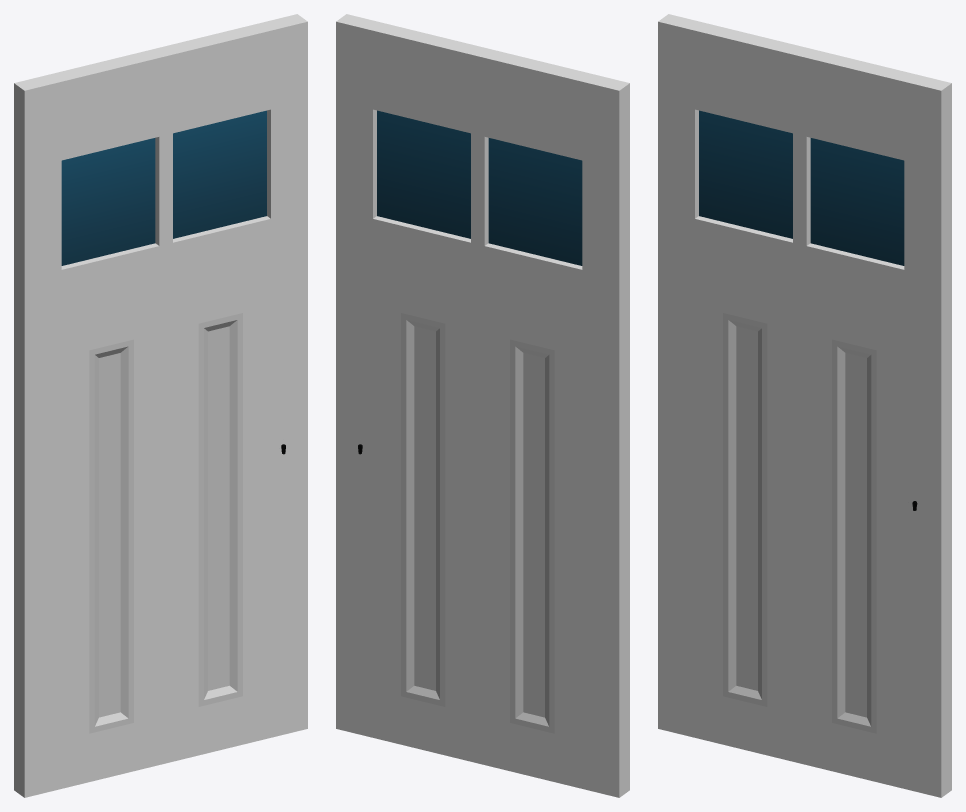
The model's file is Door06.fbx.
The picture shows the model from 3 angles, left to right: view 1: azimuth 30°, elevation 25°; view 2: azimuth 150°, elevation 25°; view 3: azimuth 330°, elevation 25°; orthographic projection.
Visible parts, largest first — view 1: Door06; view 2: Door06; view 3: Door06.
Part boxes in pixels (left/top/right/bottom): Door06: left=14, top=14, right=307, bottom=797; Door06: left=336, top=14, right=629, bottom=797; Door06: left=658, top=14, right=951, bottom=797.
Bounding box in the file's own units: 78 × 186 × 6.71.
